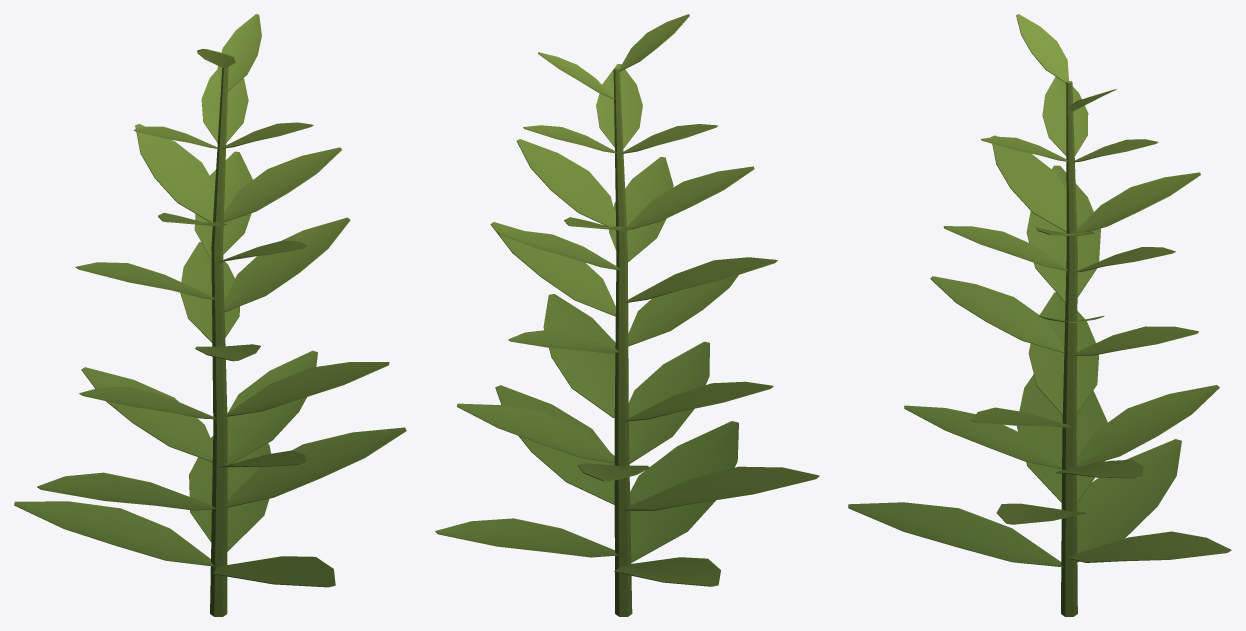
Rendered from Plant_07.fbx.
The picture shows the model from 3 angles, left to right: view 1: azimuth 30°, elevation 25°; view 2: azimuth 150°, elevation 25°; view 3: azimuth 270°, elevation 25°; orthographic projection. The views are drawn at different scales.
Visible parts, largest first — view 1: Plant_07_LOD0; view 2: Plant_07_LOD0; view 3: Plant_07_LOD0.
Boxes of the visible parts, x1,y1,x2,y2 form: Plant_07_LOD0: [14, 14, 406, 616]; Plant_07_LOD0: [435, 14, 819, 616]; Plant_07_LOD0: [848, 14, 1231, 616].
Size of what is drawn, in the model's own units: 0.4477 by 0.7347 by 0.4397.
